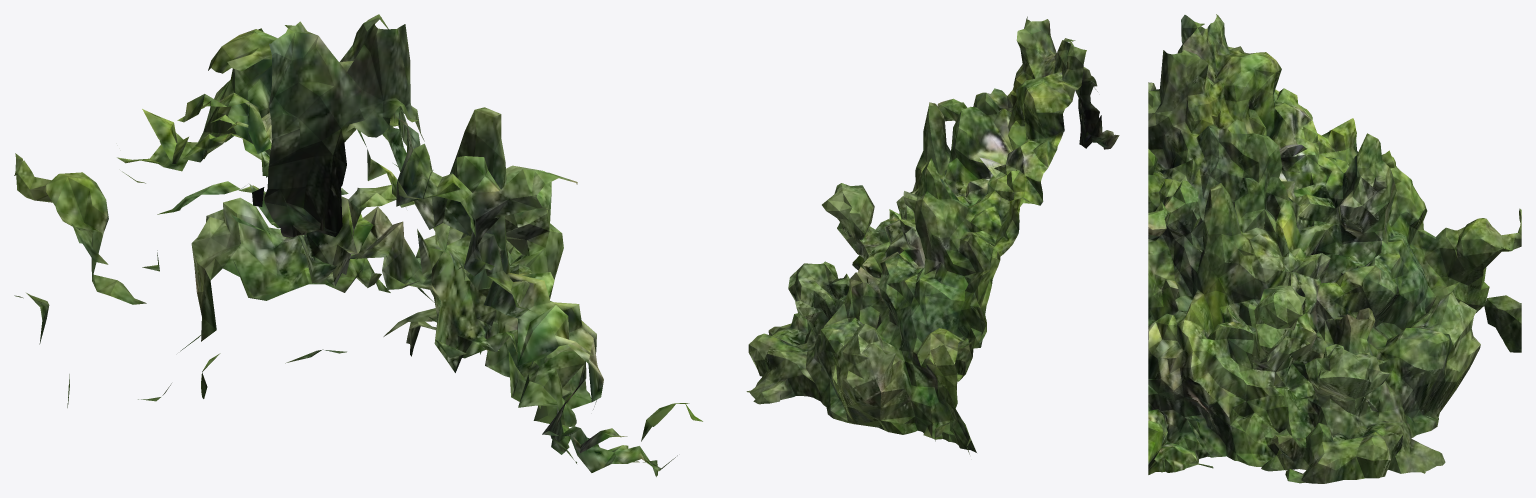
The picture shows the model from 3 angles, left to right: view 1: azimuth 30°, elevation 25°; view 2: azimuth 150°, elevation 25°; view 3: azimuth 270°, elevation 25°; orthographic projection. The views are drawn at different scales.
Size of the model in its own units: 22.41 by 26.11 by 26.11.
Materials: 5 (5 with a texture image).
